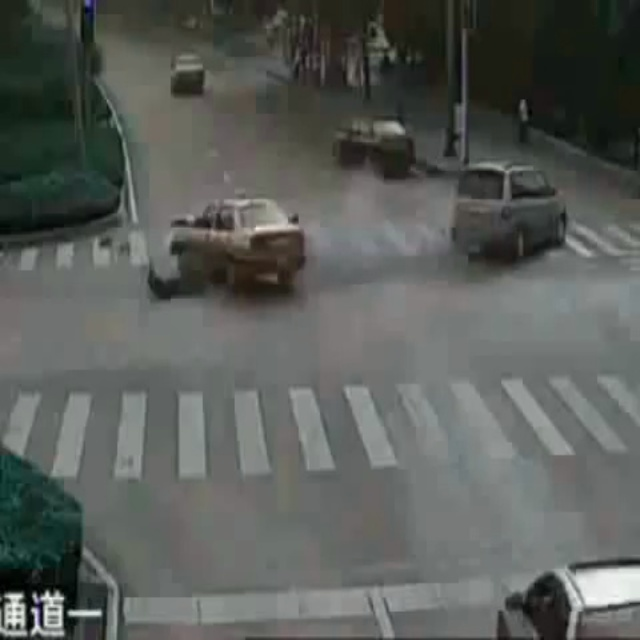acc: (169, 165, 567, 288)
